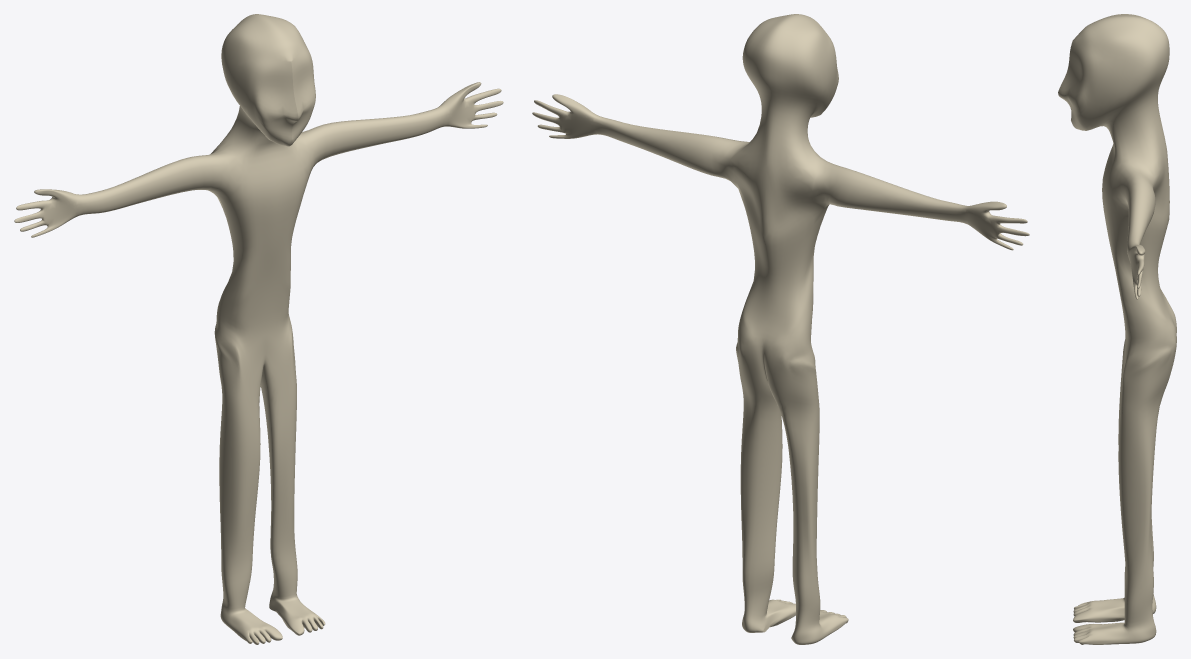
Rendered from boy (2).fbx.
3 views of the same model, side by side, from view 1: azimuth 30°, elevation 25°; view 2: azimuth 150°, elevation 25°; view 3: azimuth 270°, elevation 25° (orthographic).
Visible parts, largest first — view 1: Cube; view 2: Cube; view 3: Cube.
Boxes of the visible parts, <box> form: Cube: <box>14,14,503,644</box>; Cube: <box>532,14,1029,644</box>; Cube: <box>1058,14,1176,644</box>.
Bounding box in the file's own units: 16.18 × 19.03 × 3.35.
